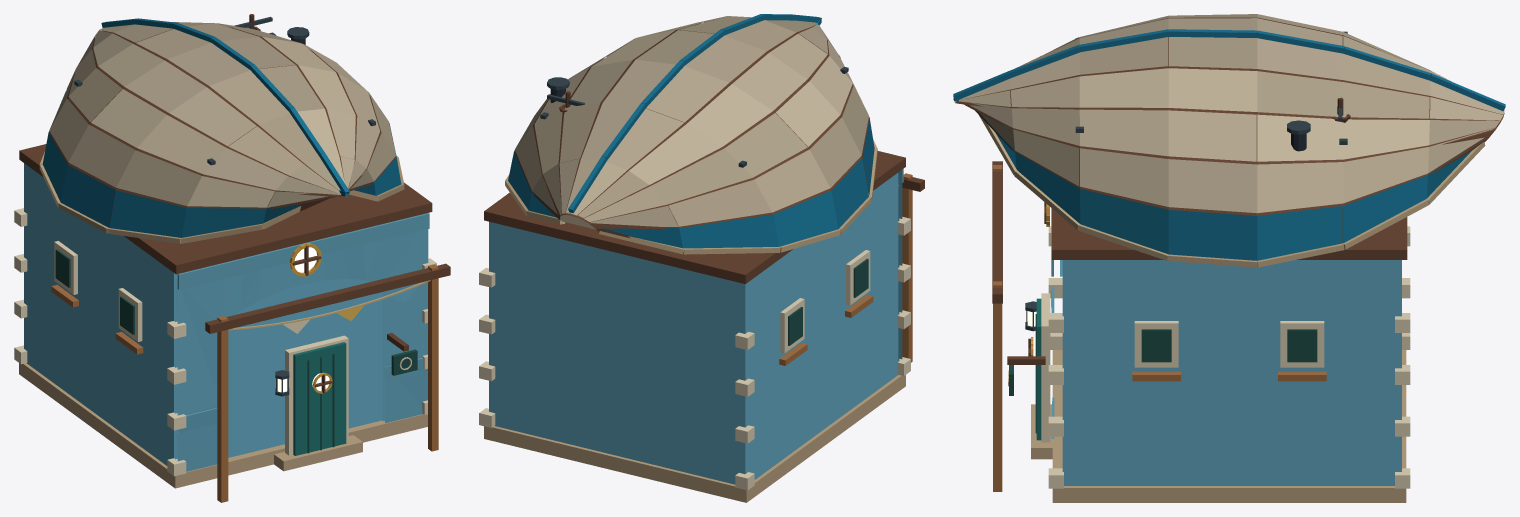
Rendered from boat-shop-large-sky.glb.
3 views of the same model, side by side, from view 1: azimuth 30°, elevation 25°; view 2: azimuth 150°, elevation 25°; view 3: azimuth 270°, elevation 25° (orthographic). The views are drawn at different scales.
Parts seen in each view (by area): view 1: boat-shop-large-sky; view 2: boat-shop-large-sky; view 3: boat-shop-large-sky.
Part boxes in pixels (x1,y1,x2,y2): boat-shop-large-sky: [14, 14, 450, 502]; boat-shop-large-sky: [479, 14, 924, 502]; boat-shop-large-sky: [953, 14, 1505, 502].
Size of the model in its own units: 5.82 by 6.35 by 7.93.
